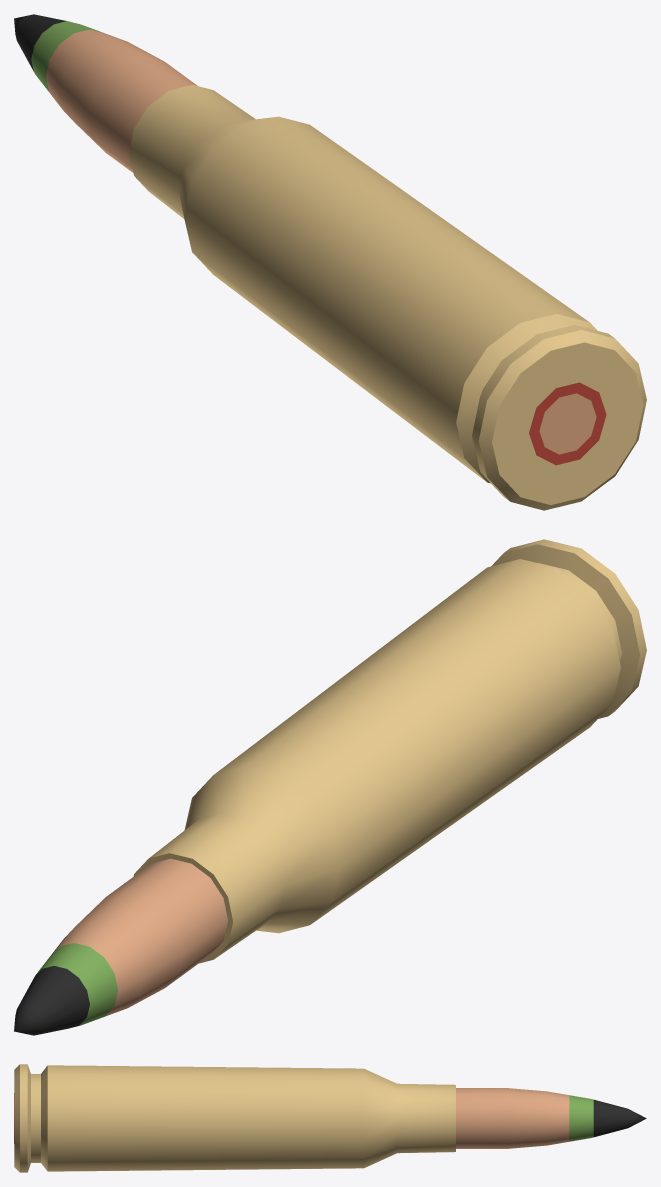
Rendered from round_545_us.glb.
The picture shows the model from 3 angles, top to bottom: view 1: azimuth 30°, elevation 25°; view 2: azimuth 150°, elevation 25°; view 3: azimuth 270°, elevation 25°; orthographic projection. The views are drawn at different scales.
Parts seen in each view (by area): view 1: body; view 2: body; view 3: body.
Part boxes in pixels (left/top/right/bottom): body: left=14, top=14, right=646, bottom=510; body: left=14, top=539, right=646, bottom=1035; body: left=14, top=1064, right=646, bottom=1172.
Bounding box in the file's own units: 0.01 × 0.00975 × 0.057.
